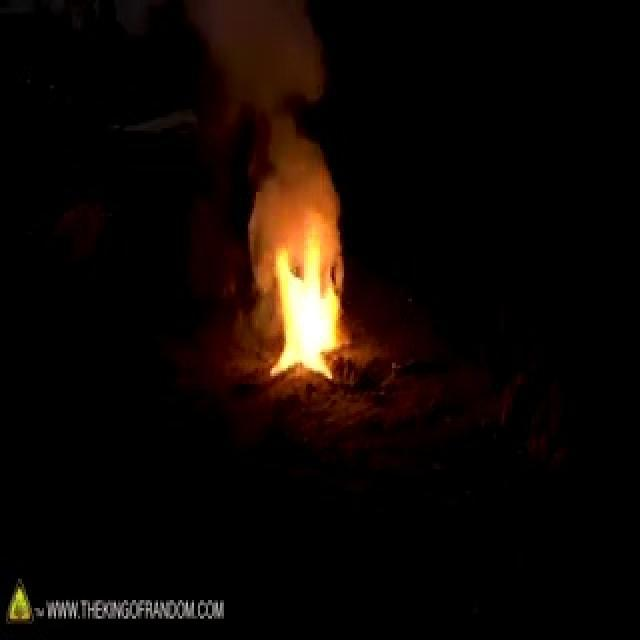fire: (253, 152, 361, 446)
